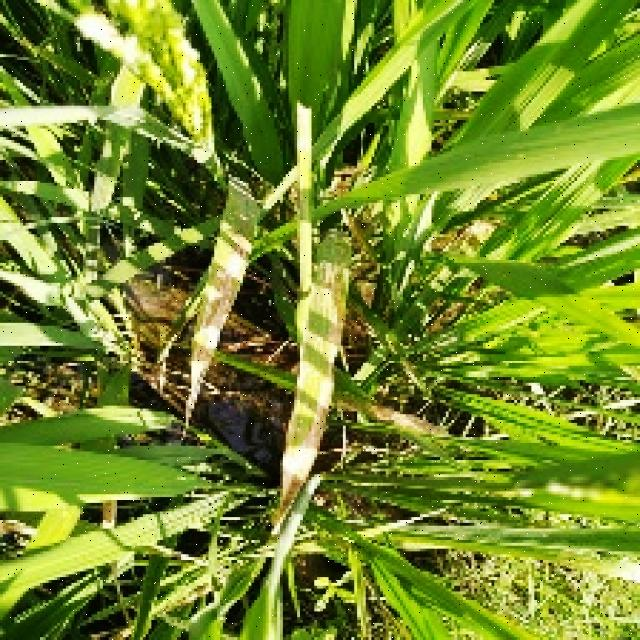-: (416, 0, 640, 640)
